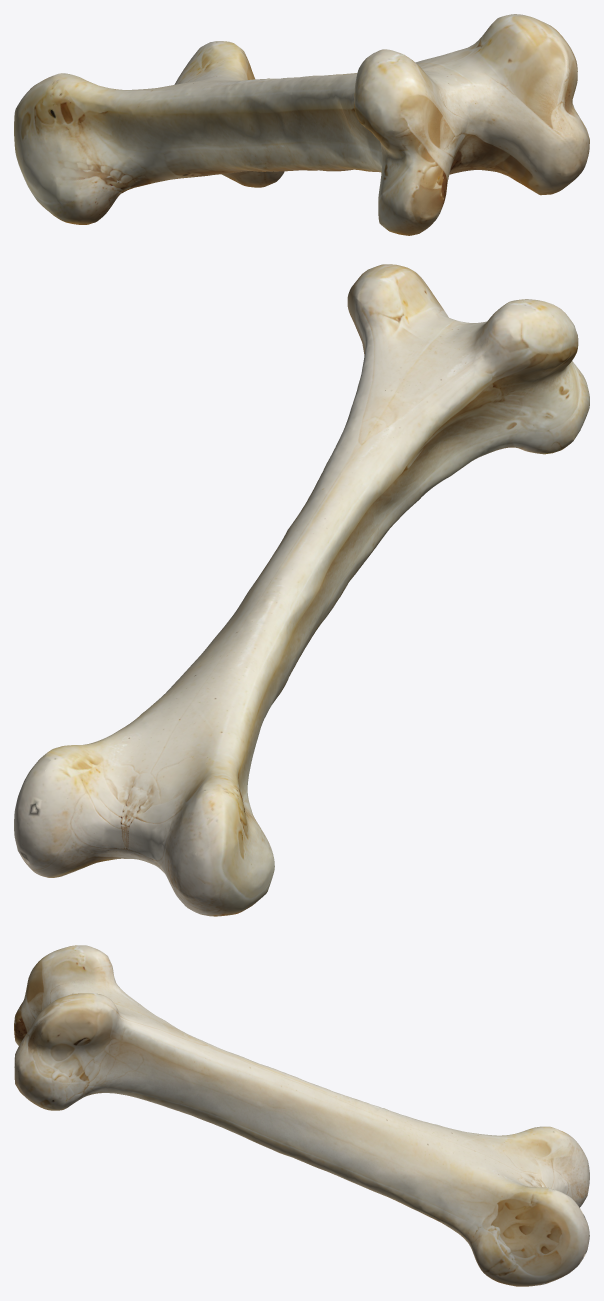
The model's file is Bone_0706100750_refine.fbx.
3 views of the same model, one above another, from view 1: azimuth 30°, elevation 25°; view 2: azimuth 150°, elevation 25°; view 3: azimuth 270°, elevation 25° (orthographic). The views are drawn at different scales.
Visible parts, largest first — view 1: Mesh_0; view 2: Mesh_0; view 3: Mesh_0.
Boxes of the visible parts, bbox=[...] form: Mesh_0: bbox=[14, 14, 589, 235]; Mesh_0: bbox=[14, 264, 589, 916]; Mesh_0: bbox=[14, 945, 589, 1286].
Size of the model in its own units: 39.89 by 65.15 by 120.
1 material, 1 textured.
